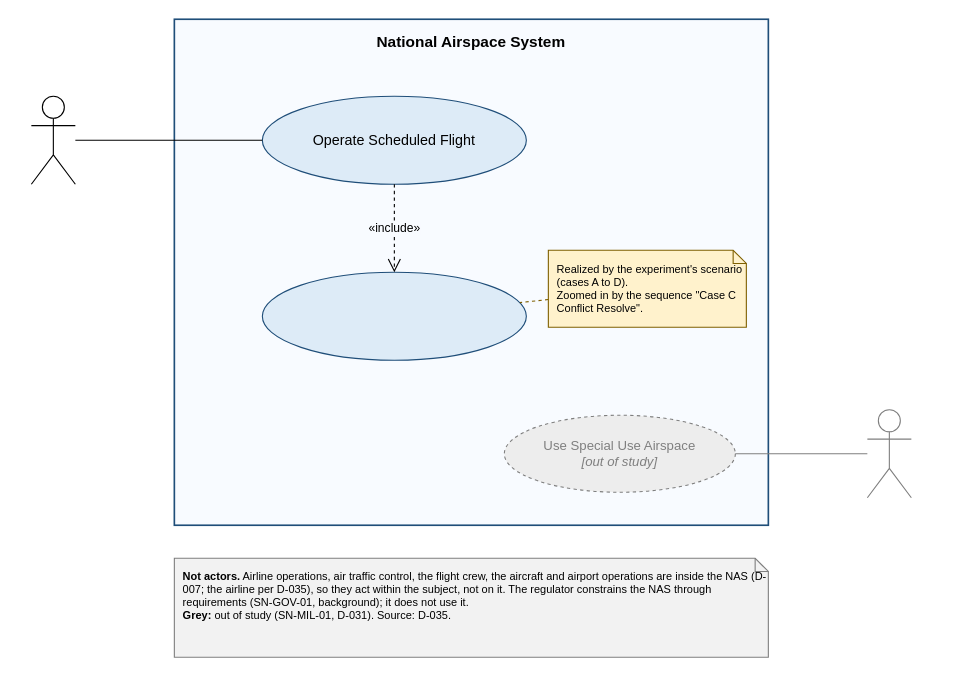
This 970x678 diagram has some shape labels left out. The centre of each missing label's shape, as x and y in pixels:
"Military airspace user [out of study]" goes at (888,453).
"Passenger" goes at (52,139).
"Resolve En-Route Conflict" goes at (393,315).
